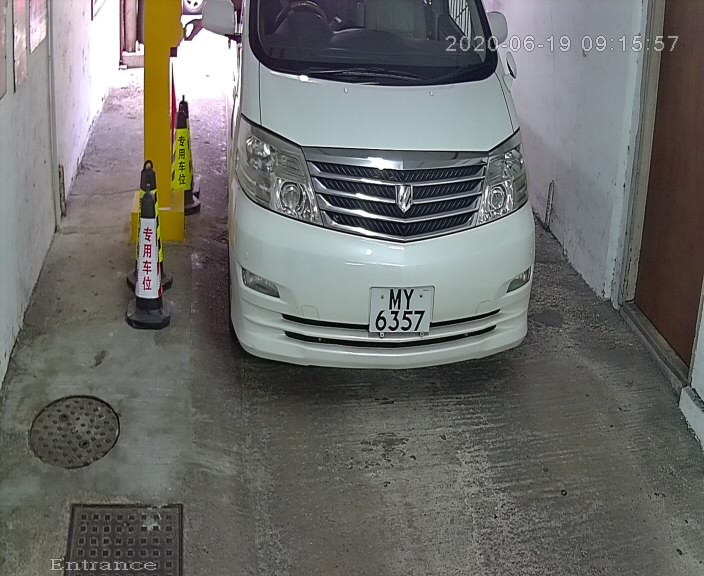privatecar: (190, 3, 555, 419)
